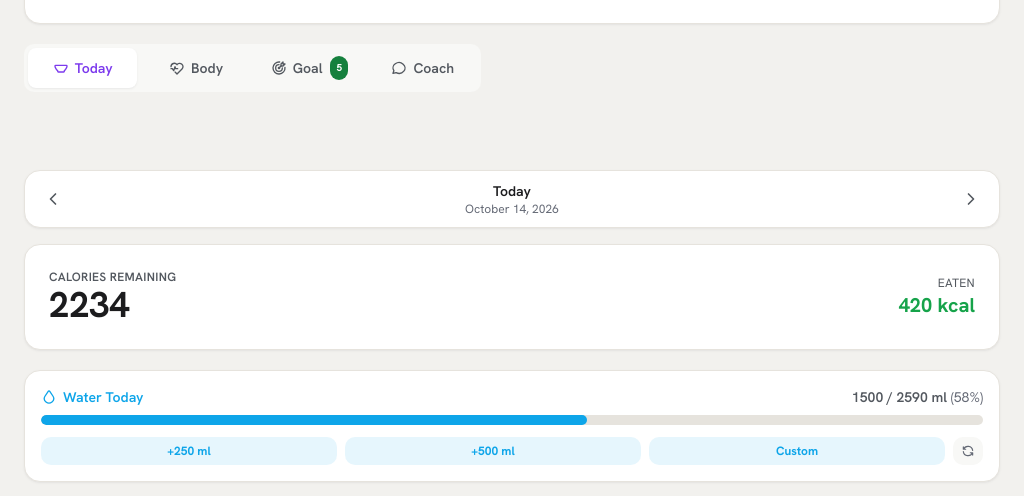
Test: Body › keeps the micronutrient score, which feeds the badge
Click the tab "Body": point(196, 68) [141,48,251,88]
(page scrolled)
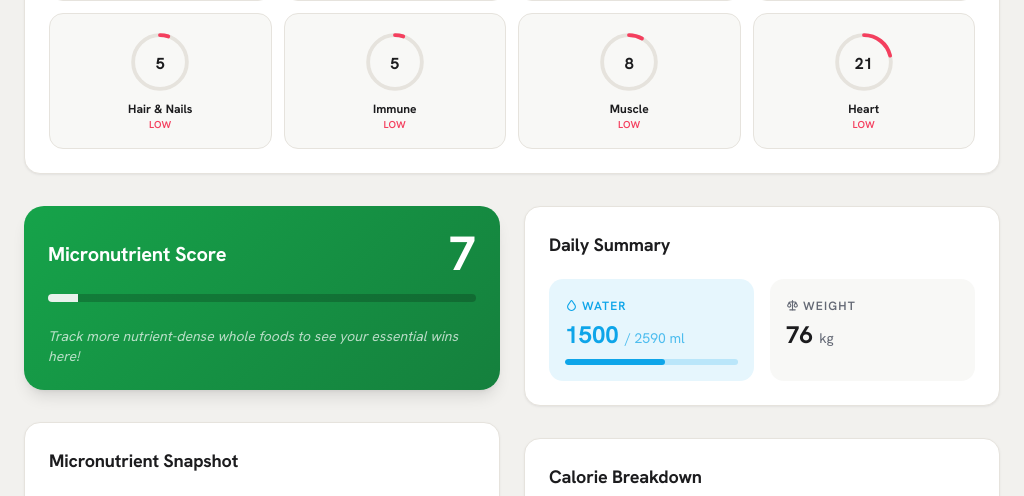
Check: the heading "Micronutrient Score" is shown, box [48,240,226,268]
